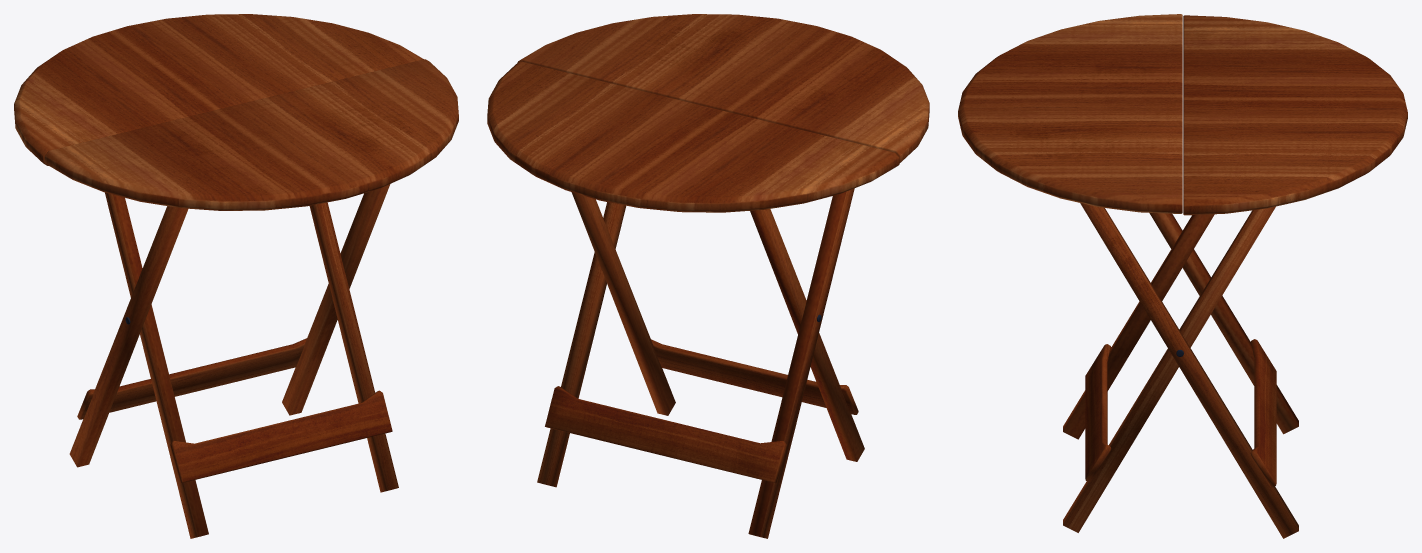
The model's file is wooden_table.glb.
3 renders of one model, left to right at view 1: azimuth 30°, elevation 25°; view 2: azimuth 150°, elevation 25°; view 3: azimuth 270°, elevation 25°, orthographic.
Parts seen in each view (by area): view 1: Table_Table01_0; view 2: Table_Table01_0; view 3: Table_Table01_0.
Boxes of the visible parts, x1,y1,x2,y2 form: Table_Table01_0: (14,14,458,538); Table_Table01_0: (487,14,929,538); Table_Table01_0: (958,14,1407,538).
Size of the model in its own units: 0.8588 by 0.7939 by 0.8604.
Materials: 1 (1 with a texture image).
